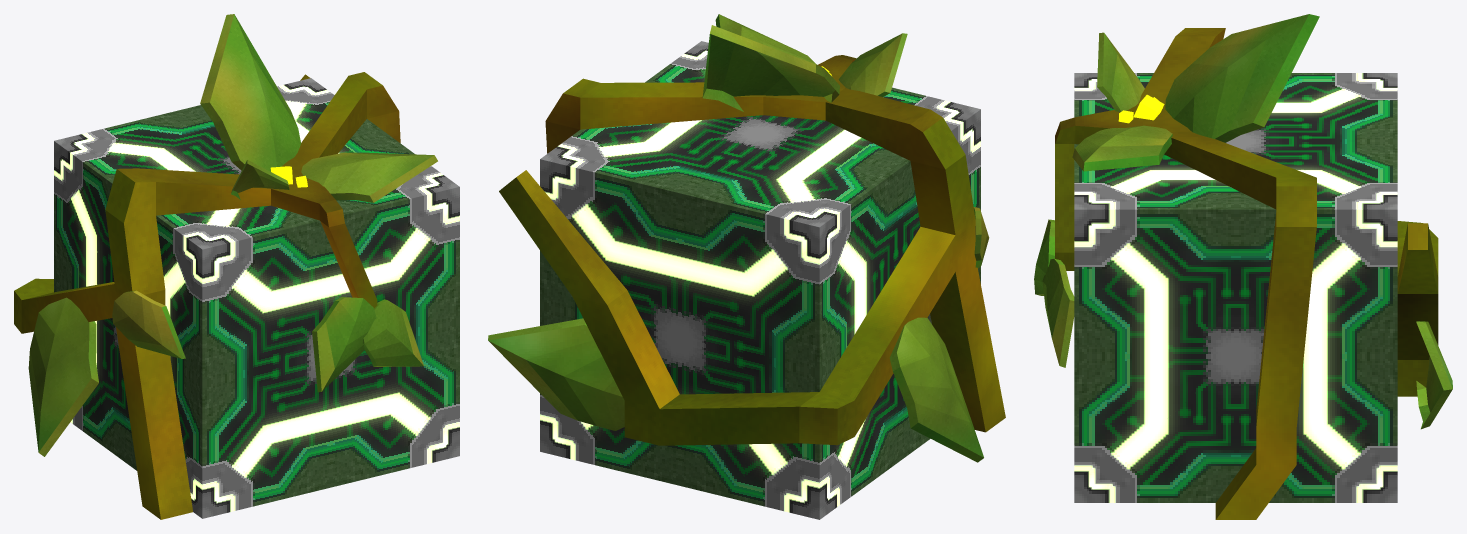
The model's file is cube_green.glb.
The picture shows the model from 3 angles, left to right: view 1: azimuth 30°, elevation 25°; view 2: azimuth 150°, elevation 25°; view 3: azimuth 270°, elevation 25°; orthographic projection. The views are drawn at different scales.
Parts seen in each view (by area): view 1: cube_0, leaf_1, vines_2; view 2: cube_0, vines_2, leaf_1; view 3: cube_0, vines_2, leaf_1, pollen_4.
Boxes of the visible parts, x1,y1,x2,y2 form: cube_0: (54, 78, 459, 518); leaf_1: (28, 14, 437, 456); vines_2: (14, 72, 400, 519); cube_0: (540, 41, 980, 519); vines_2: (499, 55, 1005, 445); leaf_1: (488, 14, 989, 462); cube_0: (1074, 73, 1397, 502); vines_2: (1055, 28, 1438, 519); leaf_1: (1034, 14, 1452, 429); pollen_4: (1118, 94, 1164, 123).
Bounding box in the file's own units: 1.45 × 1.45 × 1.29.
Materials: 4 (4 with a texture image).
